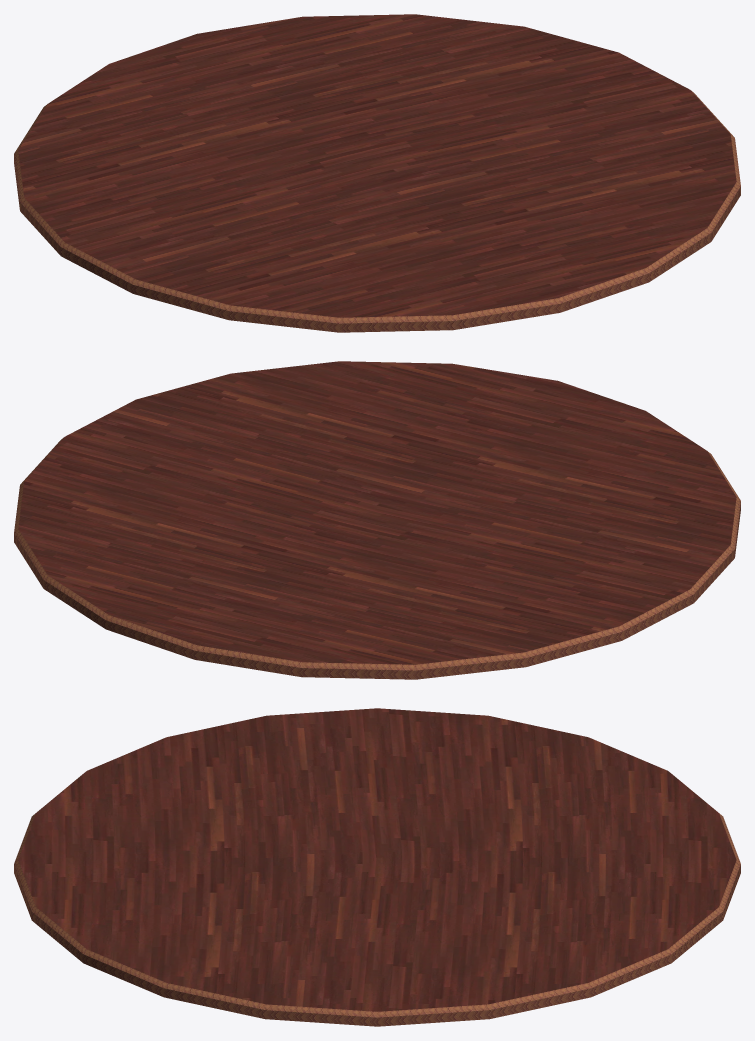
The model's file is platform-01-art.glb.
3 views of the same model, one above another, from view 1: azimuth 30°, elevation 25°; view 2: azimuth 150°, elevation 25°; view 3: azimuth 270°, elevation 25° (orthographic).
Visible parts, largest first — view 1: Platform_01_Art; view 2: Platform_01_Art; view 3: Platform_01_Art.
Boxes of the visible parts, <box> form: Platform_01_Art: <box>14,14,740,332</box>; Platform_01_Art: <box>14,361,740,679</box>; Platform_01_Art: <box>14,708,740,1026</box>.
Size of the model in its own units: 8.64 by 0.171 by 8.64.
2 materials, 2 textured.
